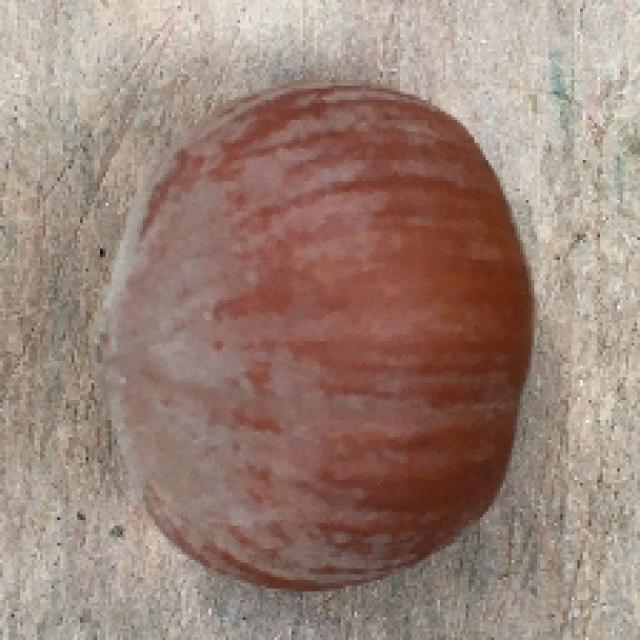hazelnut: (89, 83, 538, 578)
